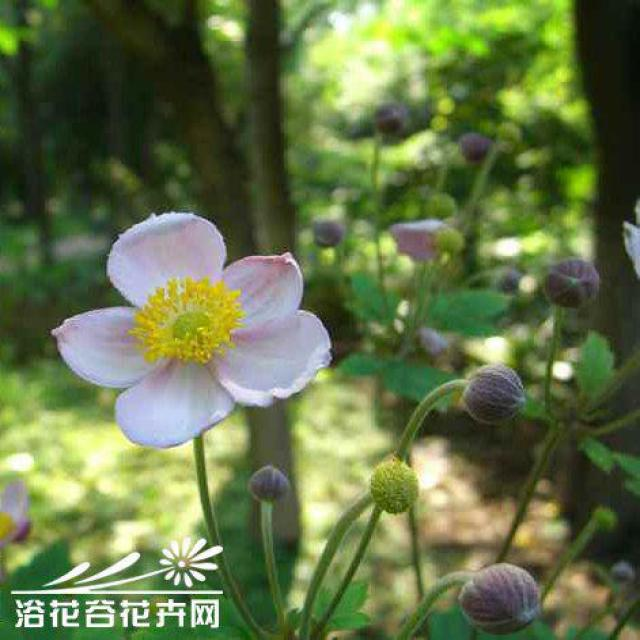other: (128, 268, 233, 364)
